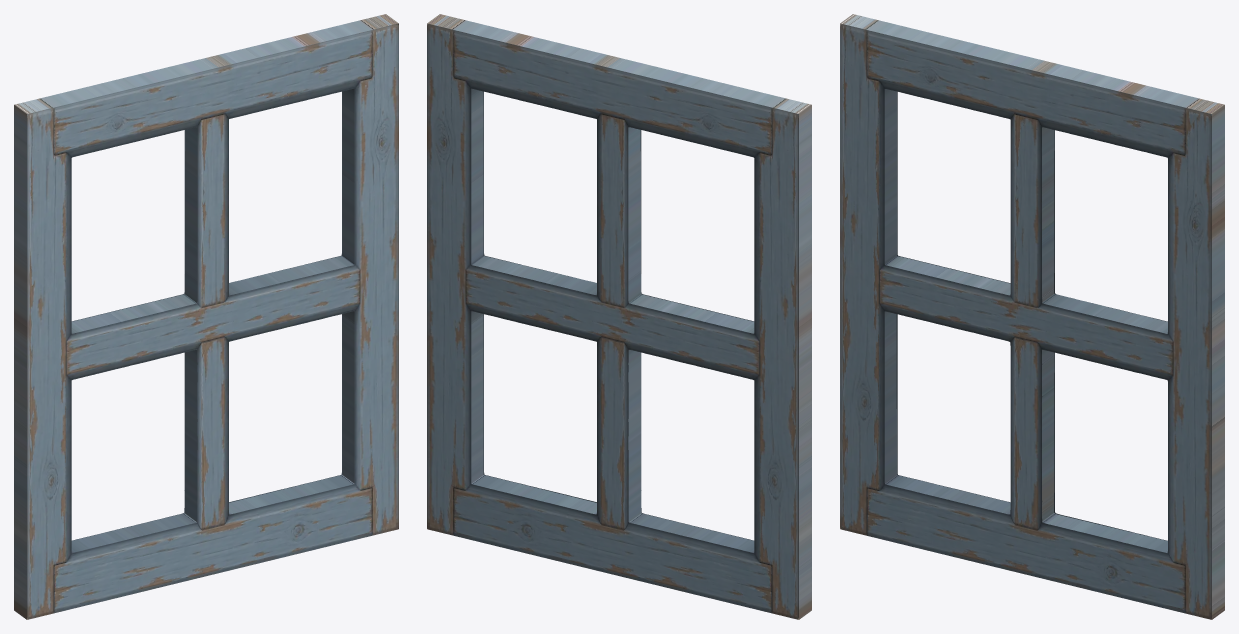
File: window.glb
The picture shows the model from 3 angles, left to right: view 1: azimuth 30°, elevation 25°; view 2: azimuth 150°, elevation 25°; view 3: azimuth 330°, elevation 25°; orthographic projection.
Parts seen in each view (by area): view 1: GEO-window; view 2: GEO-window; view 3: GEO-window.
Boxes of the visible parts, bbox=[...] form: GEO-window: bbox=[14, 14, 398, 619]; GEO-window: bbox=[427, 14, 811, 619]; GEO-window: bbox=[840, 14, 1224, 619].
Bounding box in the file's own units: 1 × 1.3 × 0.06.
1 material, 1 textured.
